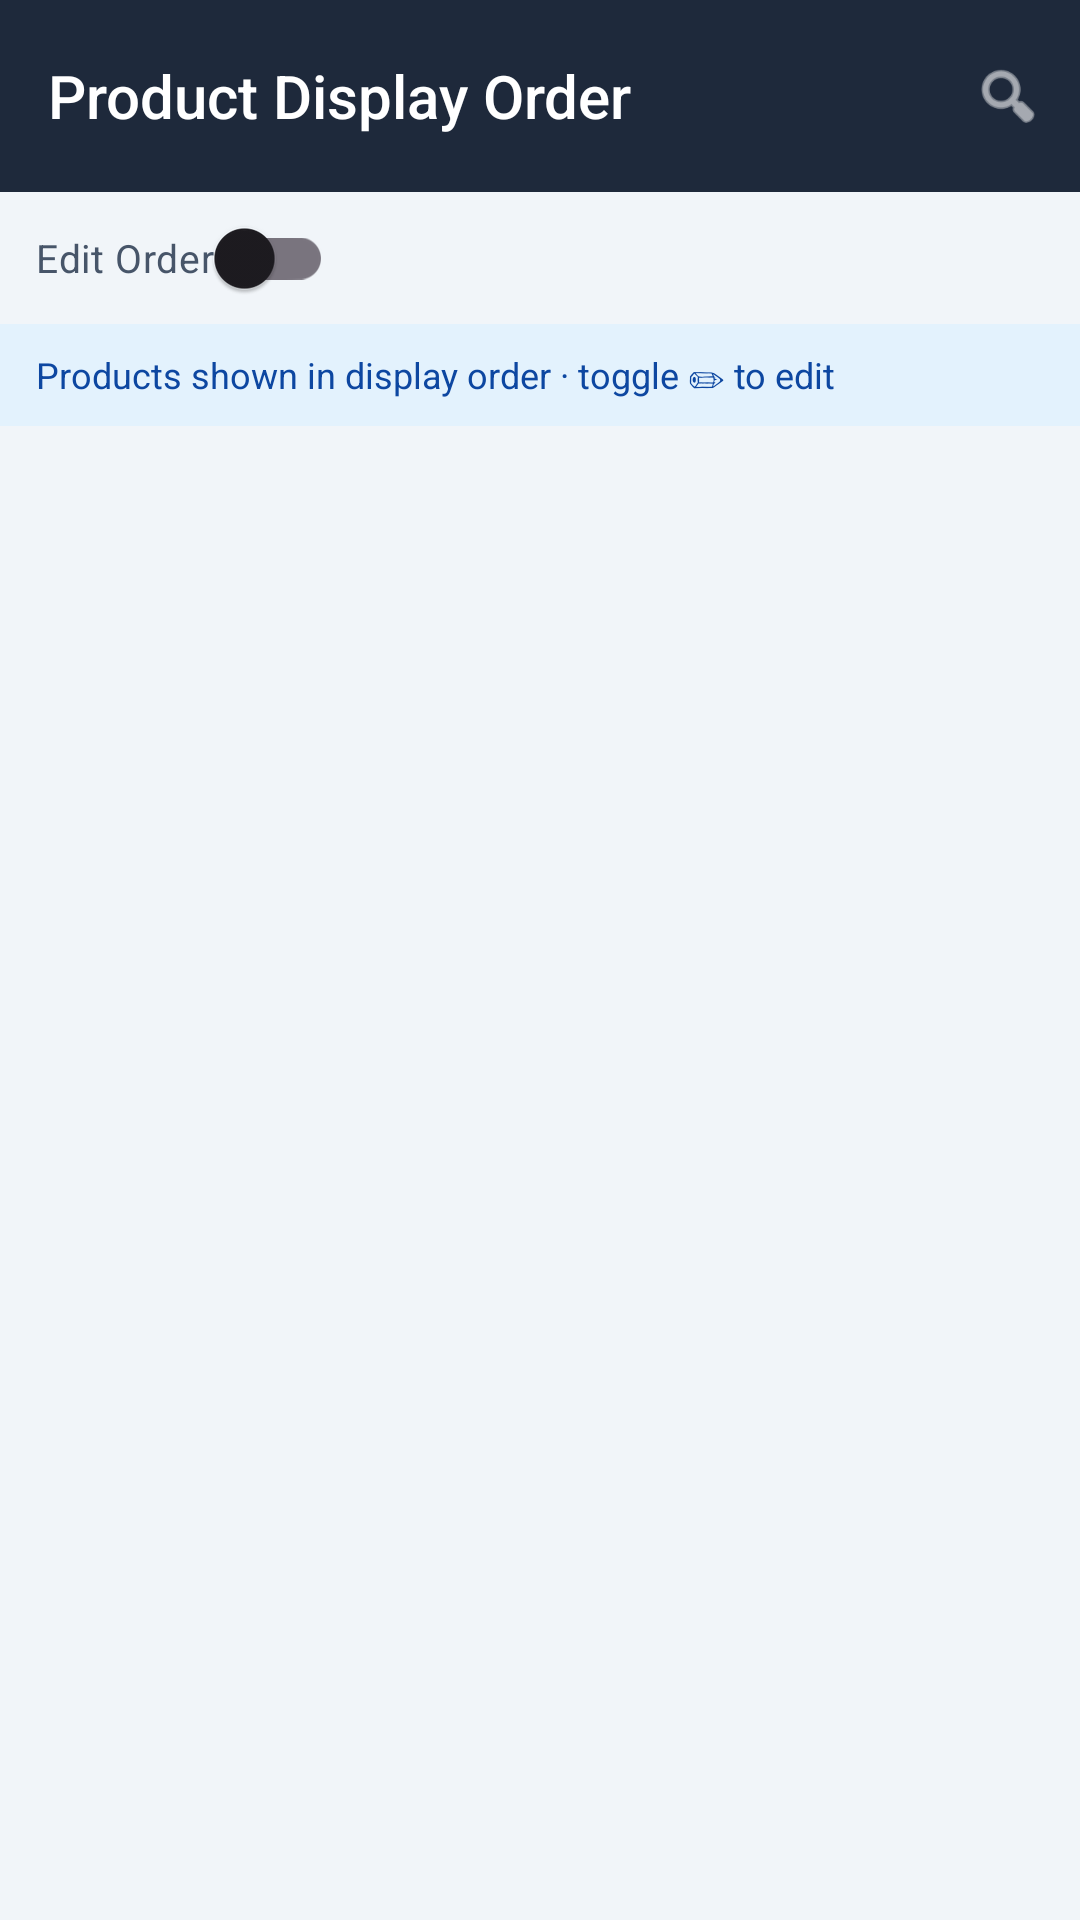

Icon bounding boxes for this 1080w x 1920h phone screenshot, format (x1, y1, x2, y2):
Search products: (981, 70, 1035, 123)
